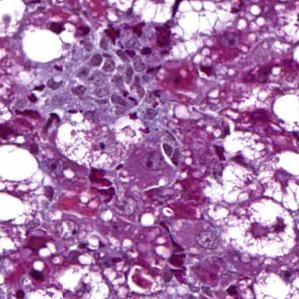ballooning: (224, 195, 298, 260), (169, 7, 240, 64)
